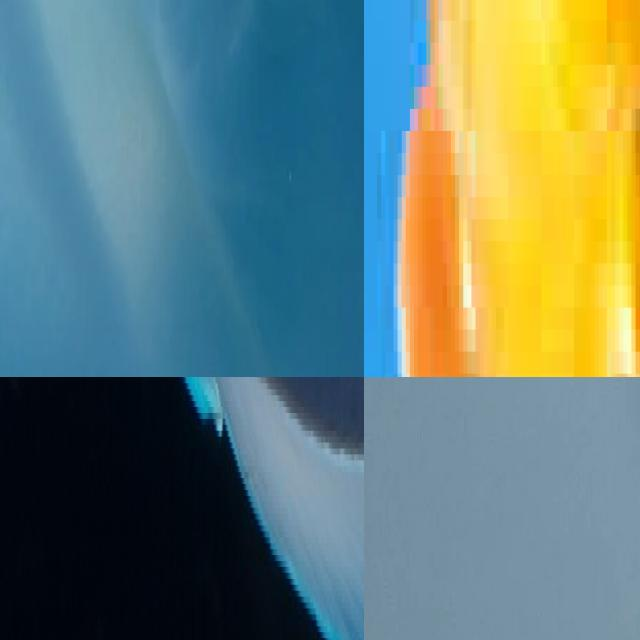fish: (0, 0, 364, 377), (0, 377, 364, 640), (364, 377, 640, 539)
